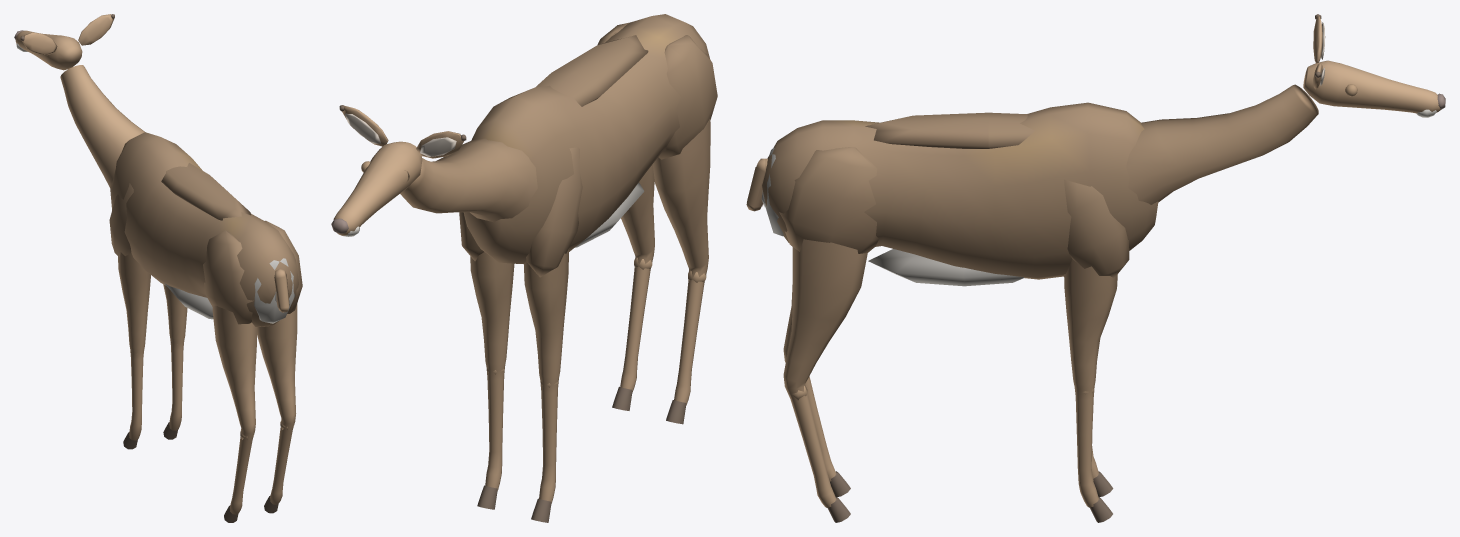
File: deer.glb
3 views of the same model, side by side, from view 1: azimuth 30°, elevation 25°; view 2: azimuth 150°, elevation 25°; view 3: azimuth 270°, elevation 25° (orthographic). The views are drawn at different scales.
Visible parts, largest first — view 1: body, head, hind_1, hind_0, leg_1, lower_0, lower_1, hind_lower_0, hind_lower_1, leg_0, tail; view 2: body, head, hind_1, leg_1, leg_0, hind_lower_1, hind_lower_0, lower_0, lower_1, hind_0; view 3: body, head, hind_0, leg_0, lower_0, hind_lower_0, hind_lower_1.
Part boxes in pixels (box(x1,y1,x2,y2)): body: box(109, 132, 302, 326); head: box(14, 14, 144, 187); hind_1: box(212, 305, 257, 440); hind_0: box(257, 304, 297, 430); leg_1: box(118, 252, 150, 353); lower_0: box(163, 342, 183, 439); lower_1: box(123, 351, 143, 449); hind_lower_0: box(264, 426, 293, 513); hind_lower_1: box(224, 436, 253, 522); leg_0: box(163, 284, 187, 344); tail: box(274, 269, 289, 312); body: box(459, 14, 717, 277); head: box(331, 105, 537, 236); hind_1: box(652, 118, 710, 283); leg_1: box(523, 248, 569, 387); leg_0: box(470, 252, 514, 374); hind_lower_1: box(666, 279, 704, 424); hind_lower_0: box(612, 266, 650, 410); lower_0: box(477, 367, 504, 509); lower_1: box(531, 380, 558, 522); hind_0: box(621, 164, 654, 270); body: box(762, 102, 1158, 286); head: box(1126, 14, 1445, 204); hind_0: box(783, 239, 867, 400); leg_0: box(1064, 259, 1117, 394); lower_0: box(1075, 389, 1112, 522); hind_lower_0: box(787, 392, 850, 522); hind_lower_1: box(805, 376, 850, 496).
Size of the model in its own units: 0.4708 by 1.7 by 2.31.
